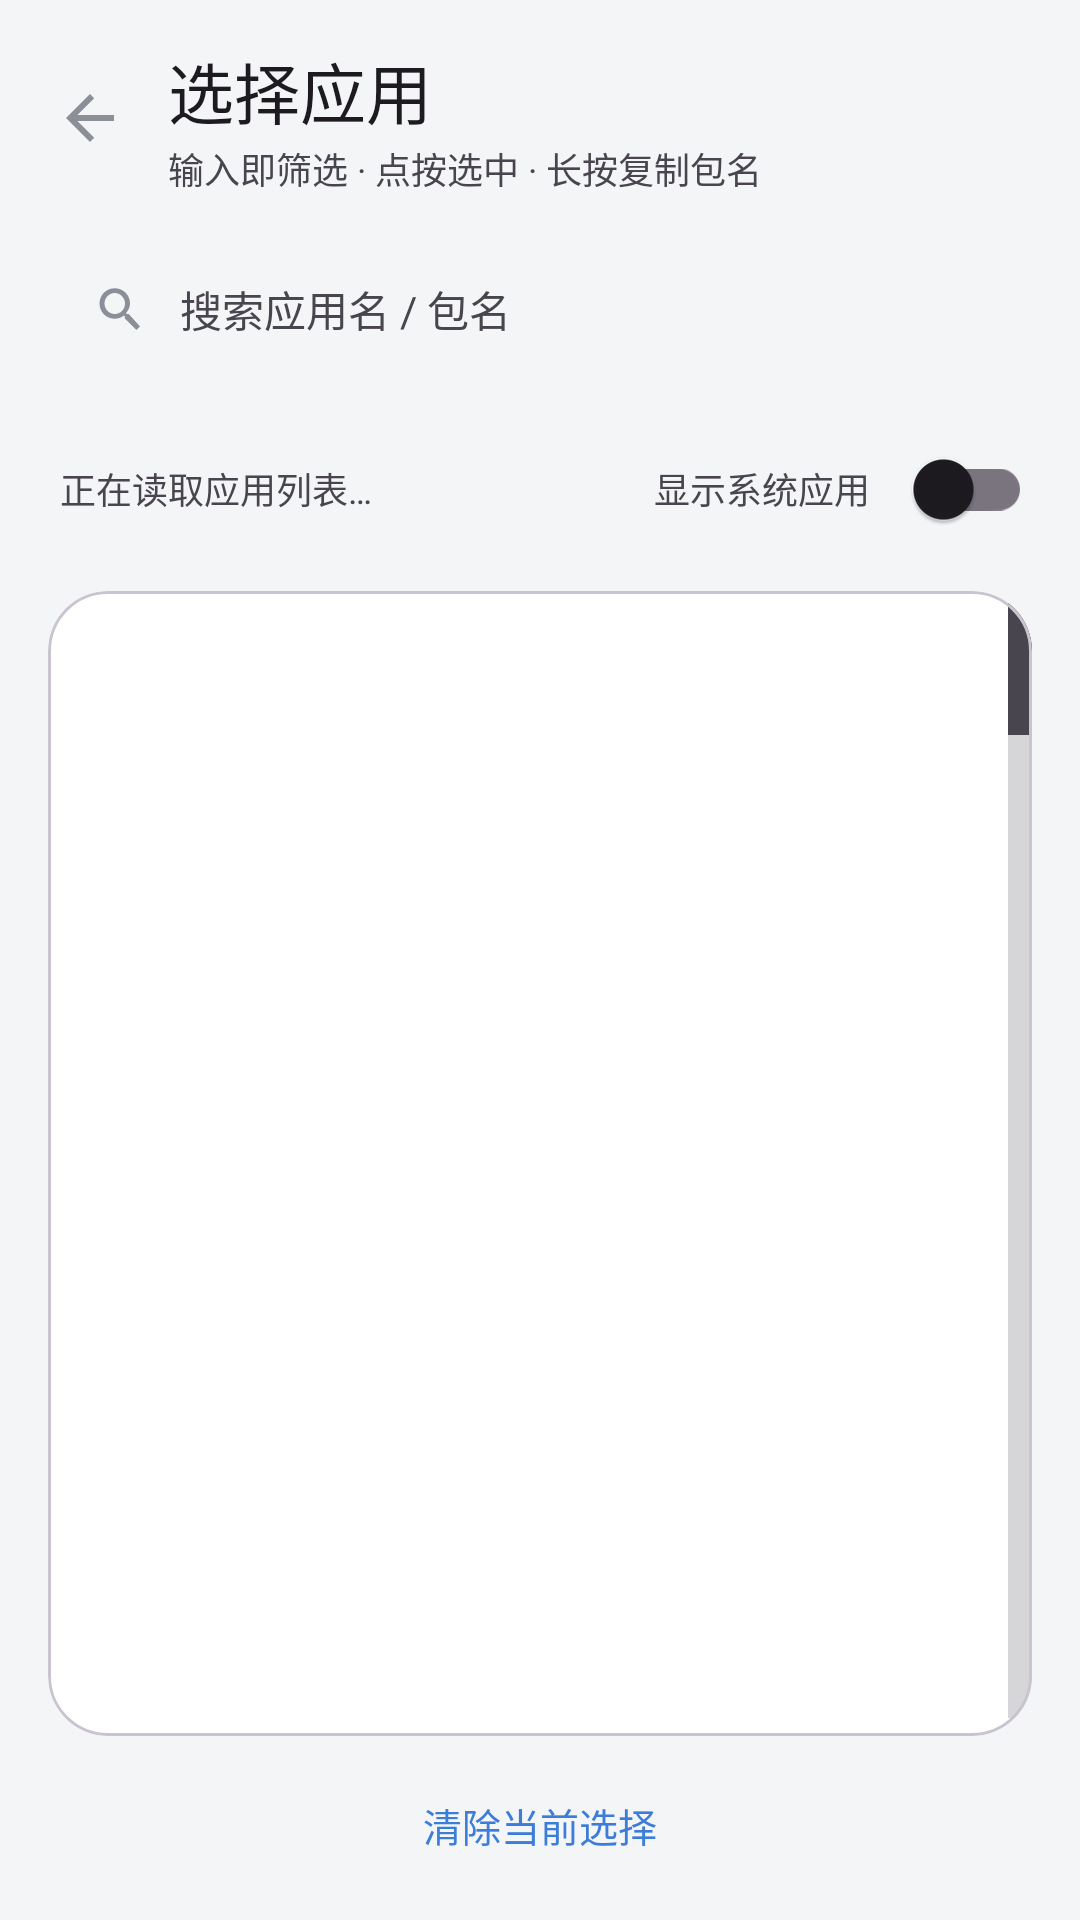

Named icons in this screenshot (1080×1920) and their centers, point (x, y):
search: point (119, 309)
返回: point (90, 118)
